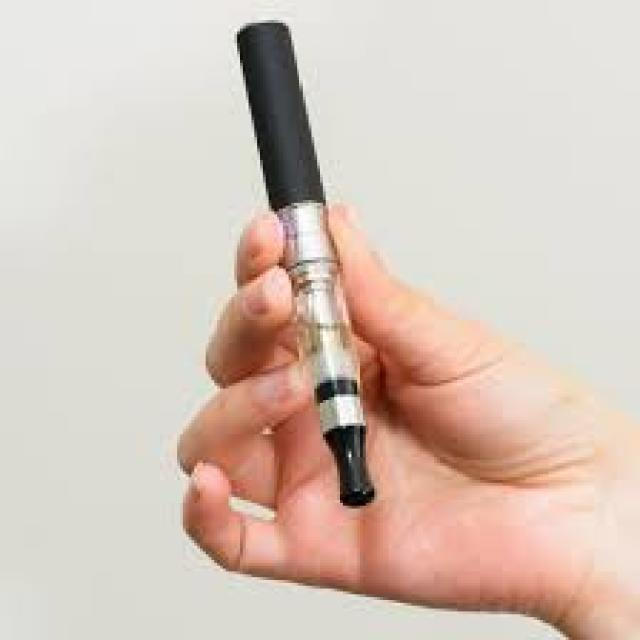Cigarette: (235, 23, 373, 508)
Hand: (169, 190, 590, 624)
